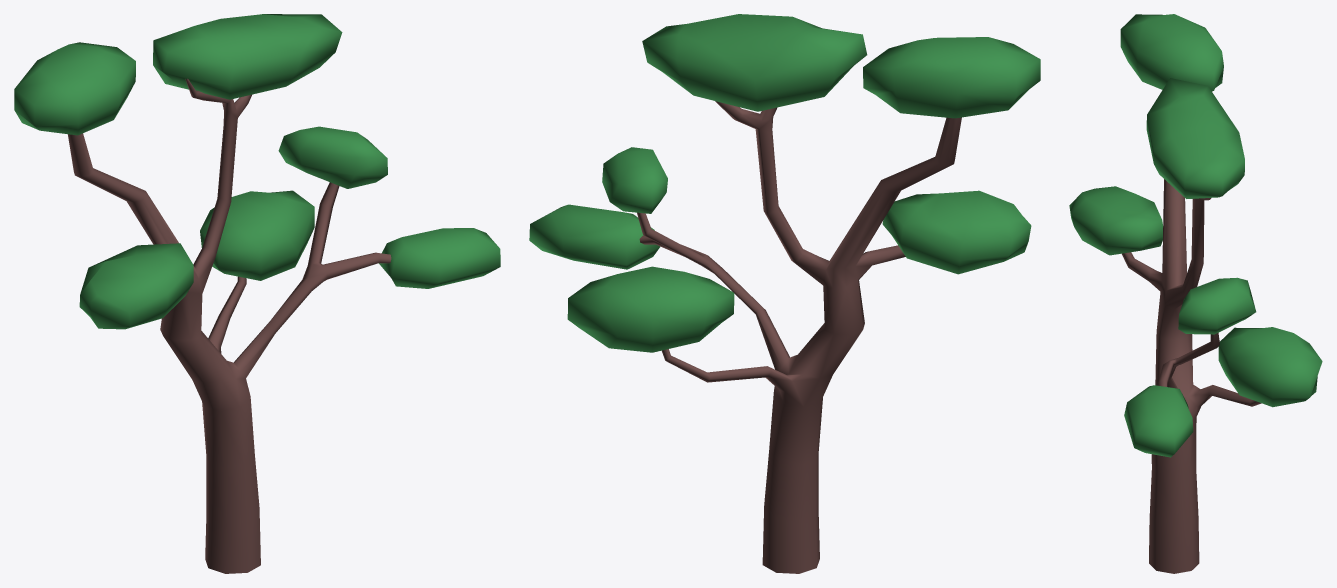
Rendered from Arvore_Japonesa_2.fbx.
The picture shows the model from 3 angles, left to right: view 1: azimuth 30°, elevation 25°; view 2: azimuth 150°, elevation 25°; view 3: azimuth 270°, elevation 25°; orthographic projection. The views are drawn at different scales.
Parts seen in each view (by area): view 1: Arvore_Japonesa_2; view 2: Arvore_Japonesa_2; view 3: Arvore_Japonesa_2.
Boxes of the visible parts, x1=… form: Arvore_Japonesa_2: x1=14, y1=14, x2=500, y2=573; Arvore_Japonesa_2: x1=529, y1=14, x2=1040, y2=573; Arvore_Japonesa_2: x1=1069, y1=14, x2=1322, y2=573.
Size of the model in its own units: 2.72 by 5.1 by 5.55.
